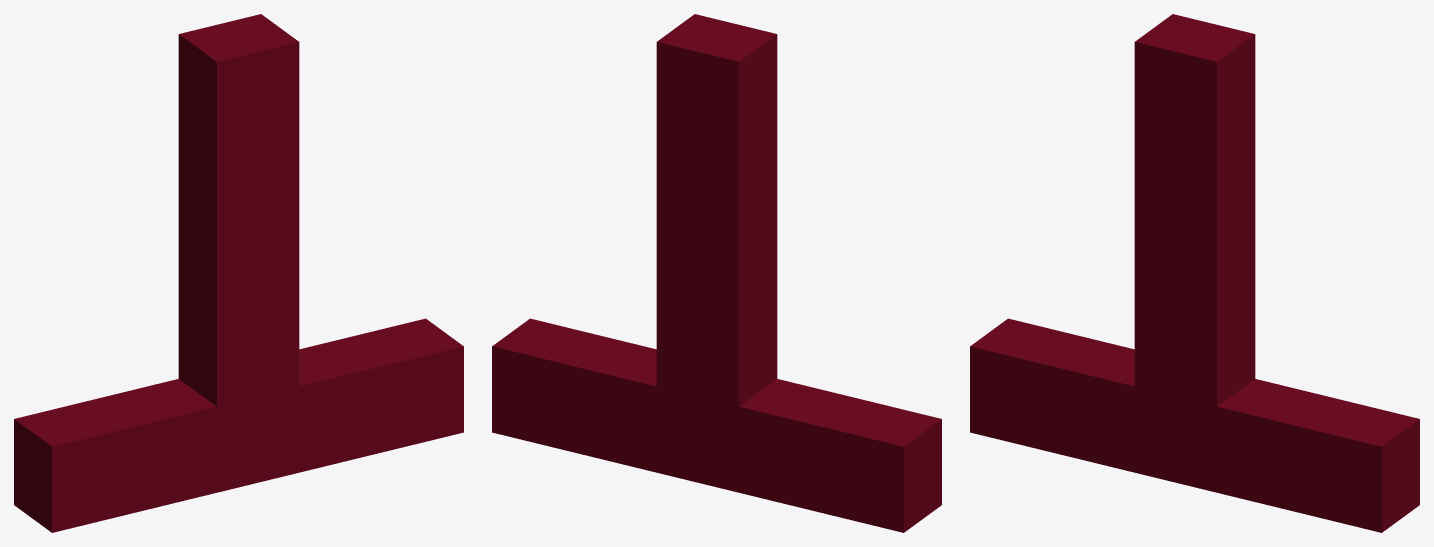
Rendered from tbar.dae.
3 views of the same model, side by side, from view 1: azimuth 30°, elevation 25°; view 2: azimuth 150°, elevation 25°; view 3: azimuth 330°, elevation 25° (orthographic).
Parts seen in each view (by area): view 1: tbar2; view 2: tbar2; view 3: tbar2.
Boxes of the visible parts, bbox=[...] form: tbar2: bbox=[14, 14, 463, 532]; tbar2: bbox=[492, 14, 941, 532]; tbar2: bbox=[970, 14, 1419, 532].
Bounding box in the file's own units: 0.15 × 0.024 × 0.15.
